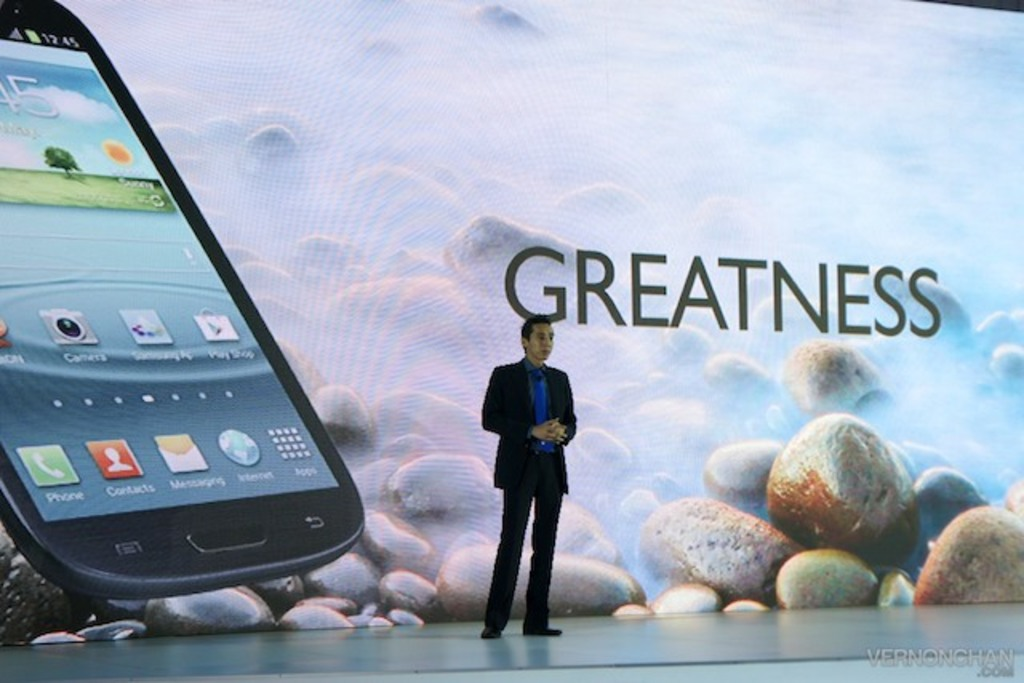Mobile-phone: (0, 0, 366, 601)
